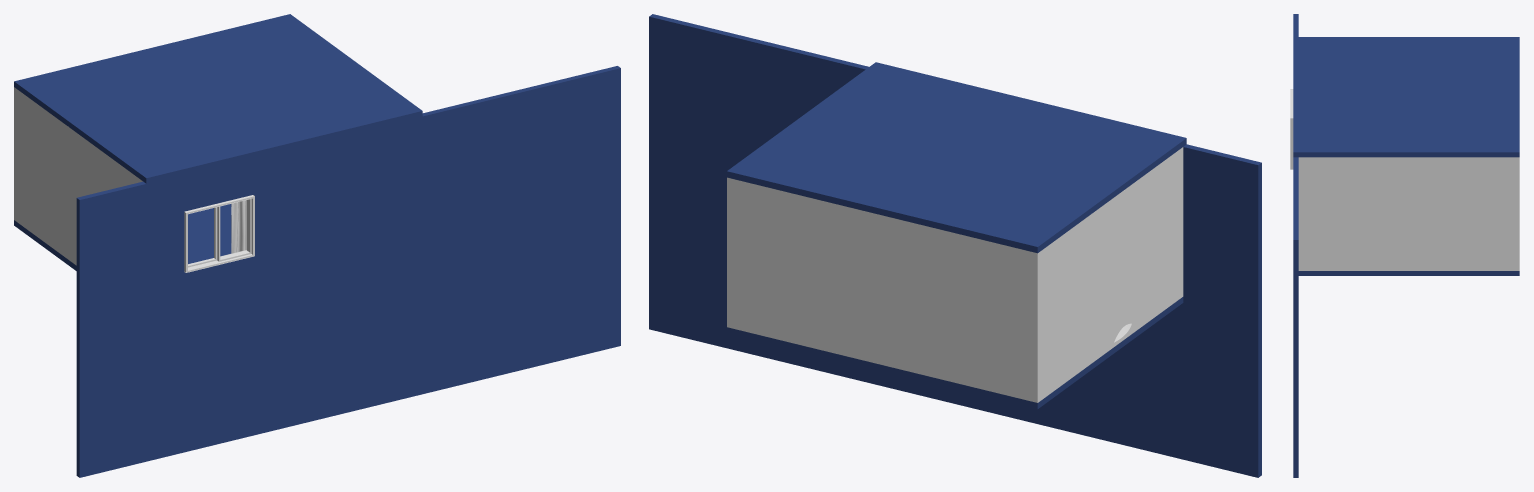
3 renders of one model, left to right at view 1: azimuth 30°, elevation 25°; view 2: azimuth 150°, elevation 25°; view 3: azimuth 270°, elevation 25°, orthographic. The views are drawn at different scales.
Visible parts, largest first — view 1: Wall, Plane, Wall.001, Plane.001, WindowFrame, Curtain; view 2: Wall, Plane, Wall.002, Wall.001, Plane.001; view 3: Plane, Wall.003, Wall, Plane.001, Wall.002, WindowFrame.
Boxes of the visible parts, box(x1,y1,x2,y2) form: Wall: box(76, 66, 620, 477); Plane: box(14, 14, 422, 183); Wall.001: box(17, 89, 142, 265); Plane.001: box(14, 204, 422, 322); WindowFrame: box(184, 195, 254, 272); Curtain: box(231, 200, 246, 253); Wall: box(649, 14, 1261, 477); Plane: box(727, 62, 1186, 253); Wall.002: box(727, 177, 1041, 402); Wall.001: box(1041, 147, 1183, 399); Plane.001: box(727, 297, 1183, 409); Plane: box(1293, 37, 1519, 157); Wall.003: box(1298, 157, 1514, 270); Wall: box(1293, 14, 1298, 477); Plane.001: box(1298, 271, 1519, 275); Wall.002: box(1514, 157, 1519, 270); WindowFrame: box(1290, 89, 1293, 169).
Bounding box in the file's own units: 19.59 × 9.81 × 8.41.
